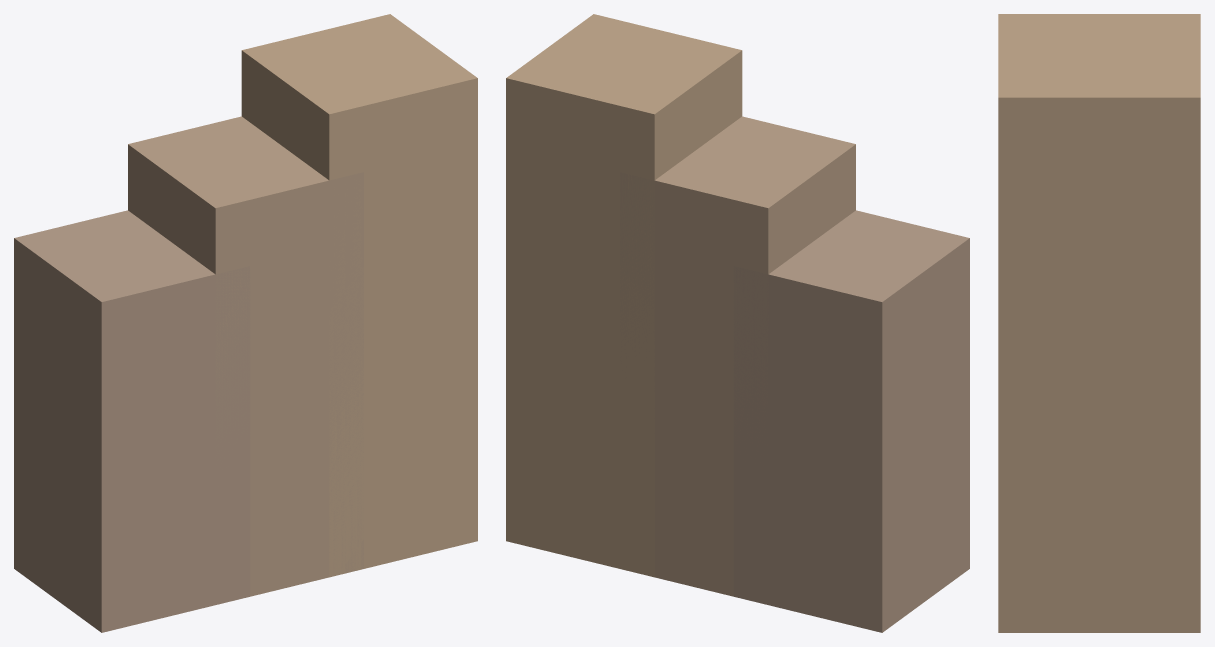
File: world_03.glb
3 views of the same model, side by side, from view 1: azimuth 30°, elevation 25°; view 2: azimuth 150°, elevation 25°; view 3: azimuth 270°, elevation 25° (orthographic). The views are drawn at different scales.
Parts seen in each view (by area): view 1: sandstone, sandstone_2, sandstone_1; view 2: sandstone, sandstone_2, sandstone_1; view 3: sandstone_2.
Boxes of the visible parts, bbox=[...] form: sandstone: bbox=[14, 210, 250, 632]; sandstone_2: bbox=[241, 14, 477, 577]; sandstone_1: bbox=[128, 116, 363, 596]; sandstone: bbox=[733, 210, 969, 632]; sandstone_2: bbox=[506, 14, 742, 577]; sandstone_1: bbox=[620, 116, 855, 596]; sandstone_2: bbox=[998, 14, 1200, 632].
Bounding box in the file's own units: 1.19 × 1.4 × 0.48.
